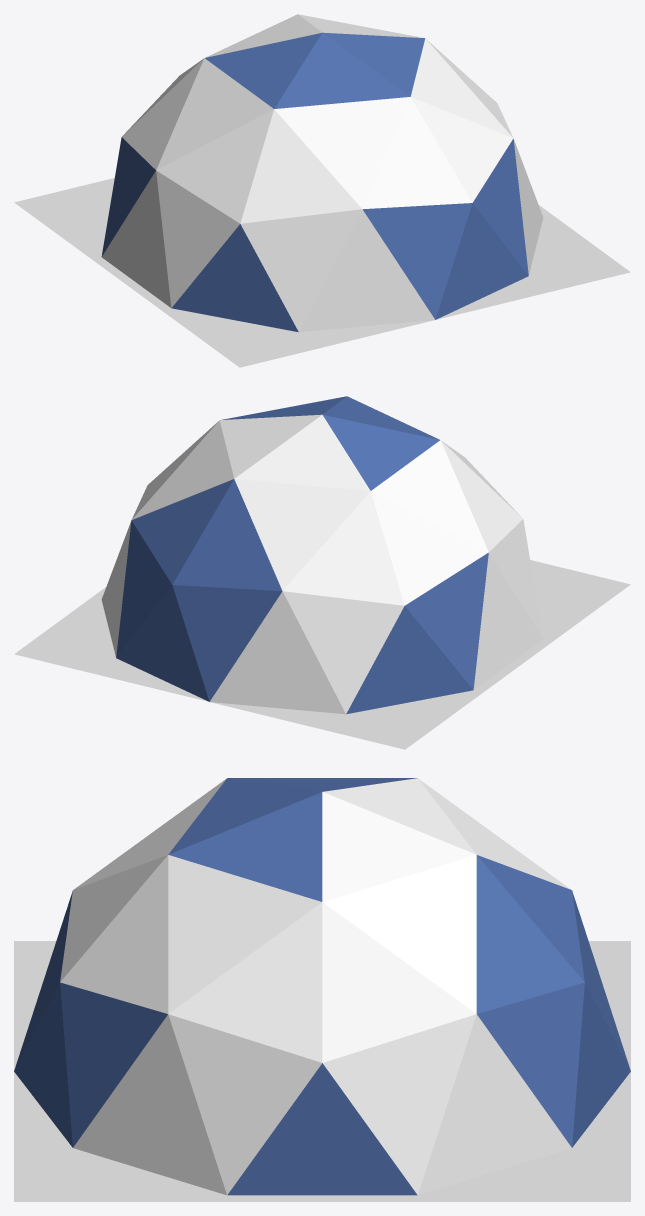
The model's file is Environment.fbx.
The picture shows the model from 3 angles, top to bottom: view 1: azimuth 30°, elevation 25°; view 2: azimuth 150°, elevation 25°; view 3: azimuth 270°, elevation 25°; orthographic projection. The views are drawn at different scales.
Parts seen in each view (by area): view 1: Icosphere, Floor; view 2: Icosphere, Floor; view 3: Icosphere, Floor.
Boxes of the visible parts, left/top/right/bottom form: Icosphere: left=101, top=14, right=543, bottom=332; Floor: left=14, top=178, right=630, bottom=367; Icosphere: left=101, top=396, right=543, bottom=714; Floor: left=14, top=560, right=630, bottom=749; Icosphere: left=14, top=778, right=630, bottom=1195; Floor: left=14, top=941, right=630, bottom=1201.
Size of the model in its own units: 2000 by 1000 by 2000.
